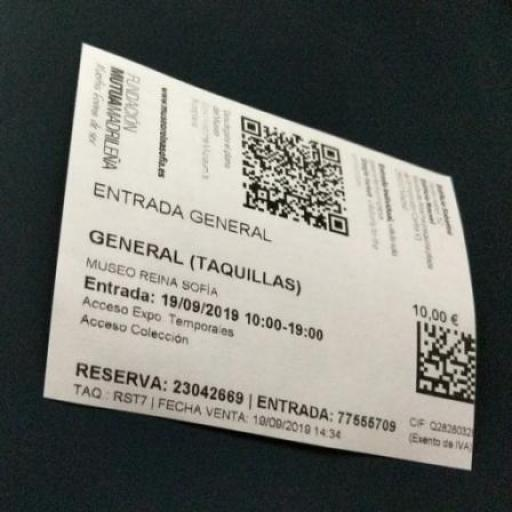paper: (37, 26, 512, 511)
